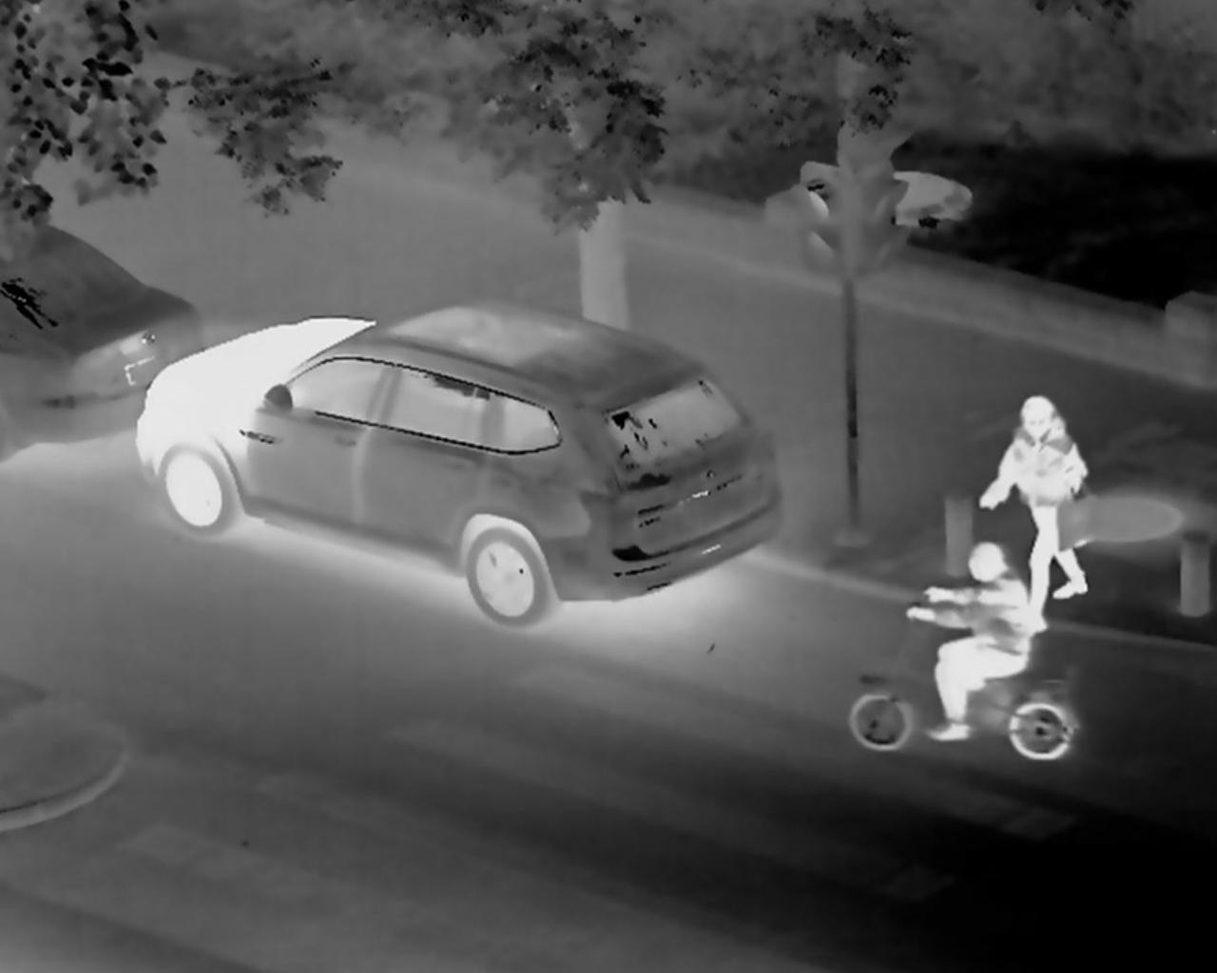person: (933, 543, 1040, 759), (1015, 402, 1099, 603)
